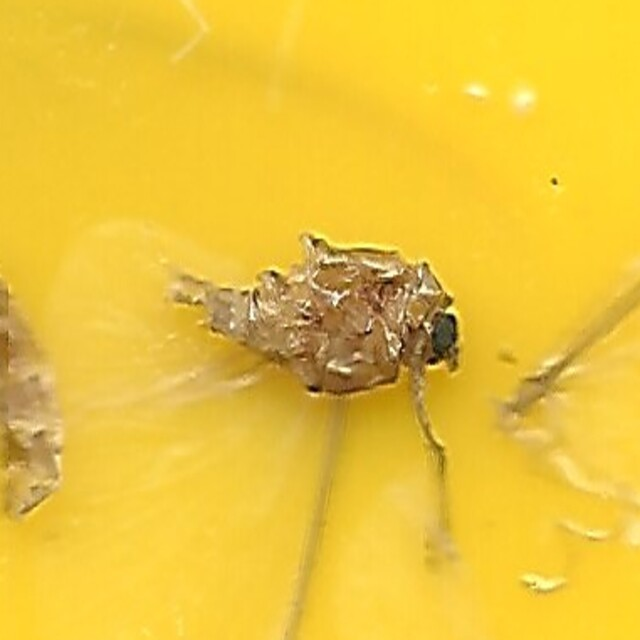Ephemeroptera: (168, 225, 472, 415)
